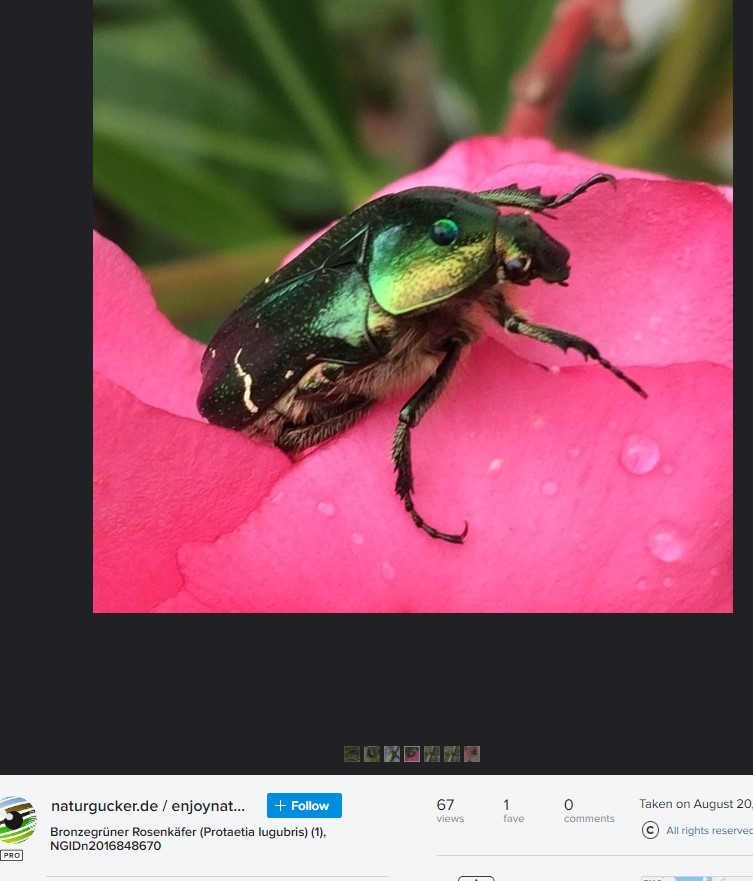Protaetia_lugubris: (192, 160, 654, 554)
